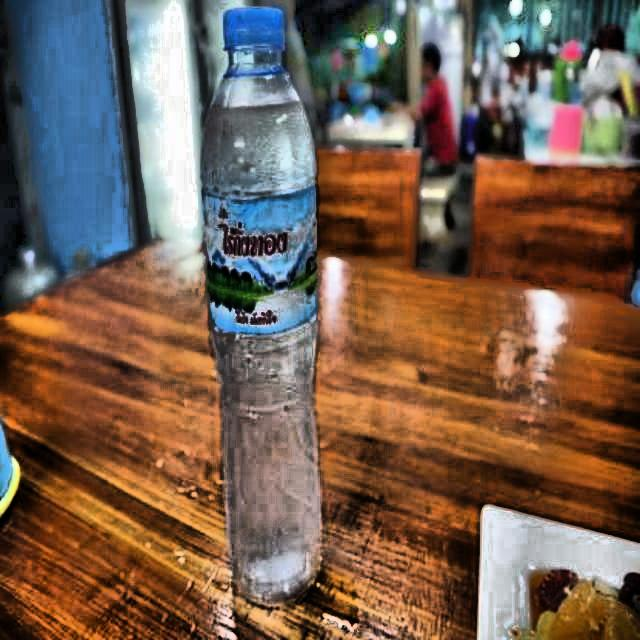Bottles: (192, 0, 348, 614)
